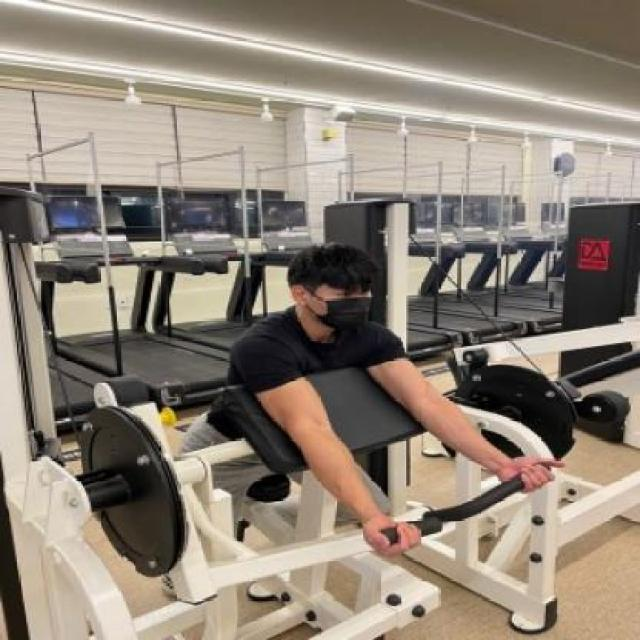arm curl machine: (0, 361, 552, 640)
